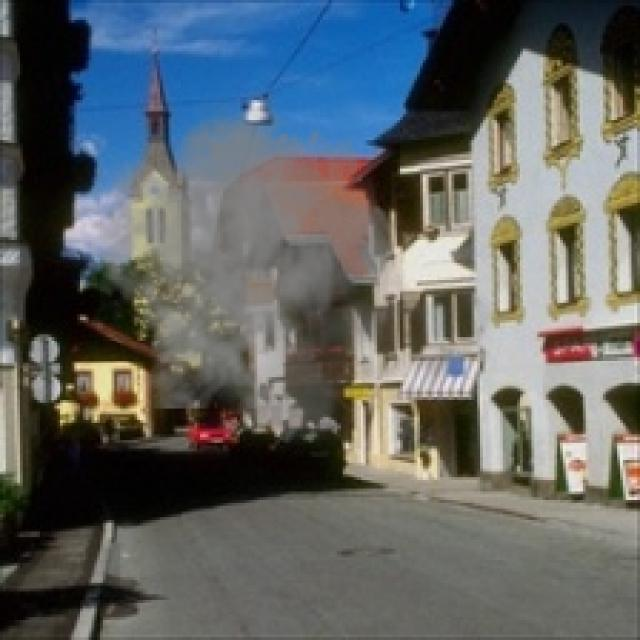Smoke: (88, 91, 500, 452)
